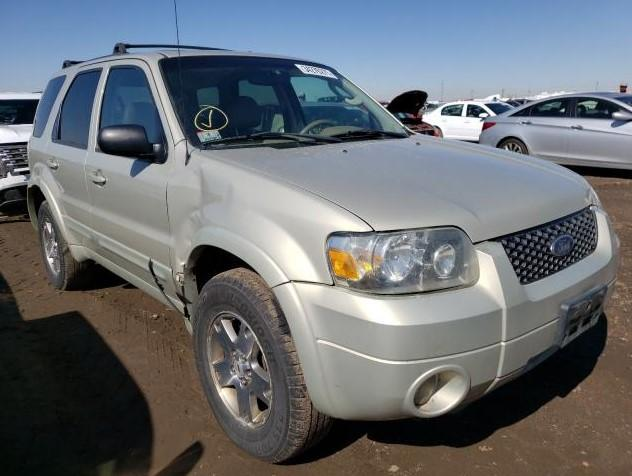Broken part: (147, 253, 185, 316), (170, 267, 197, 326)
Dent: (176, 168, 233, 270), (582, 186, 601, 205)
